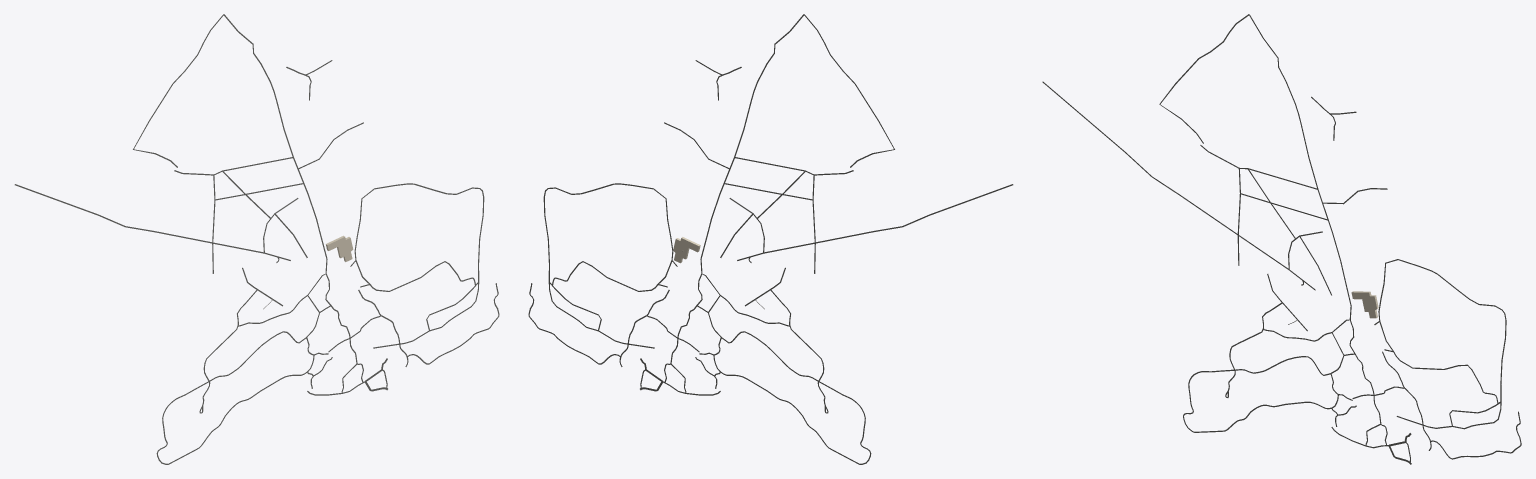
File: historic-palestine-16_38_3582_3328.glb
3 views of the same model, side by side, from view 1: azimuth 30°, elevation 25°; view 2: azimuth 150°, elevation 25°; view 3: azimuth 330°, elevation 25° (orthographic).
Parts seen in each view (by area): view 1: Road .002, Road .023, Road .001, Road; view 2: Road .002, Road .023, Road .001, Road; view 3: Road .002, Road .023, Road .001, Road.
Boxes of the visible parts, x1=… form: Road .002: x1=350, y1=183, x2=484, y2=348; Road .023: x1=156, y1=331, x2=314, y2=464; Road .001: x1=14, y1=184, x2=290, y2=260; Road: x1=223, y1=14, x2=327, y2=258; Road .002: x1=543, y1=183, x2=677, y2=348; Road .023: x1=713, y1=331, x2=871, y2=464; Road .001: x1=737, y1=184, x2=1013, y2=260; Road: x1=700, y1=14, x2=804, y2=258; Road .002: x1=1374, y1=259, x2=1506, y2=429; Road .023: x1=1183, y1=356, x2=1338, y2=432; Road .001: x1=1042, y1=81, x2=1315, y2=290; Road: x1=1249, y1=14, x2=1351, y2=305.
Bounding box in the file's own units: 1332 × 1148 × 8.7.
